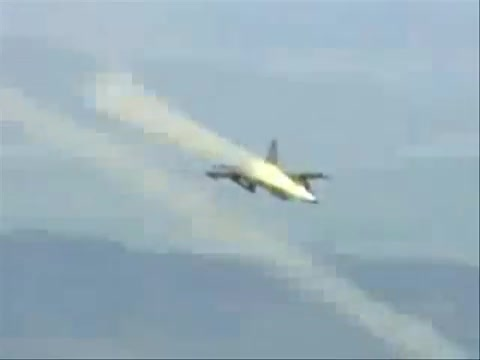aeroplane: (208, 135, 330, 205)
